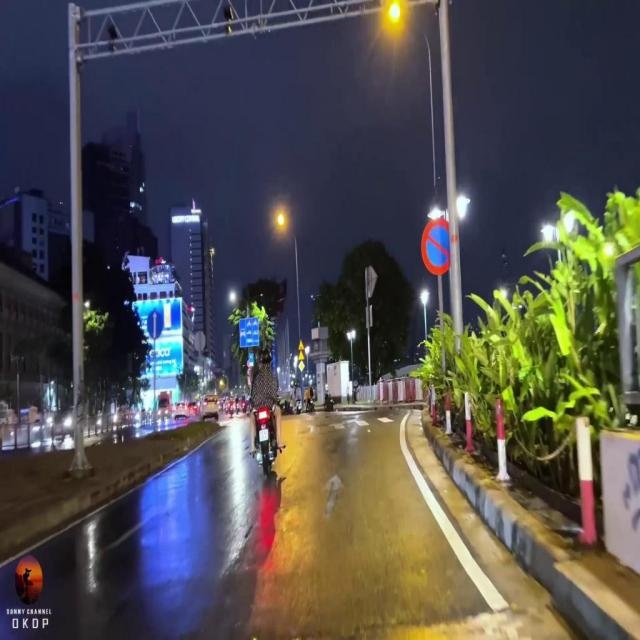cam_do_xe: (422, 218, 449, 278)
cho_quay_xe: (248, 354, 254, 362)
chu_y_nguoi_di_bo_cat_ngang: (298, 349, 305, 360)
duong_co_song_map_mo_nhan_tao: (298, 340, 305, 351)
duong_mot_chieu: (148, 310, 164, 340)
duong_uu_tien: (298, 360, 305, 373)
lan_duong_cho_tung_xe_theo_vach_ke_duong: (239, 318, 259, 347)
